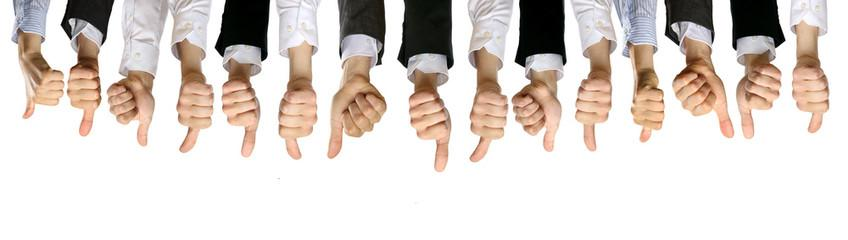thumbsdown: (670, 70, 735, 138), (327, 91, 386, 159), (408, 88, 451, 172), (105, 77, 155, 147), (737, 63, 782, 139), (220, 78, 260, 158), (468, 89, 509, 163), (510, 90, 558, 153), (574, 77, 613, 152), (175, 81, 215, 153), (277, 89, 317, 160), (791, 66, 830, 133), (66, 64, 101, 137), (21, 69, 64, 120), (629, 87, 665, 143)
